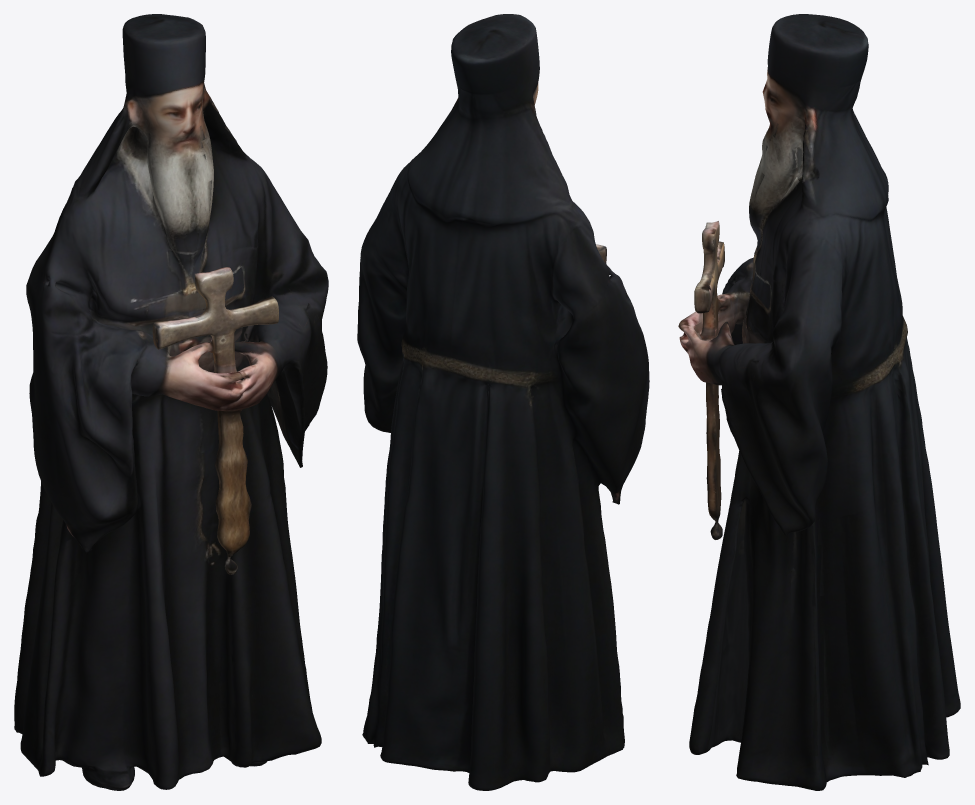
File: priest.glb
The picture shows the model from 3 angles, left to right: view 1: azimuth 30°, elevation 25°; view 2: azimuth 150°, elevation 25°; view 3: azimuth 270°, elevation 25°; orthographic projection. The views are drawn at different scales.
Visible parts, largest first — view 1: Object_4; view 2: Object_4; view 3: Object_4.
Boxes of the visible parts, x1,y1,x2,y2 form: Object_4: (14, 14, 328, 790); Object_4: (357, 14, 649, 790); Object_4: (678, 14, 960, 790).
Bounding box in the file's own units: 0.8173 × 2 × 0.7094.
Materials: 1 (1 with a texture image).
